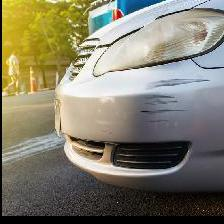bumper_scratch: (136, 69, 212, 132)
